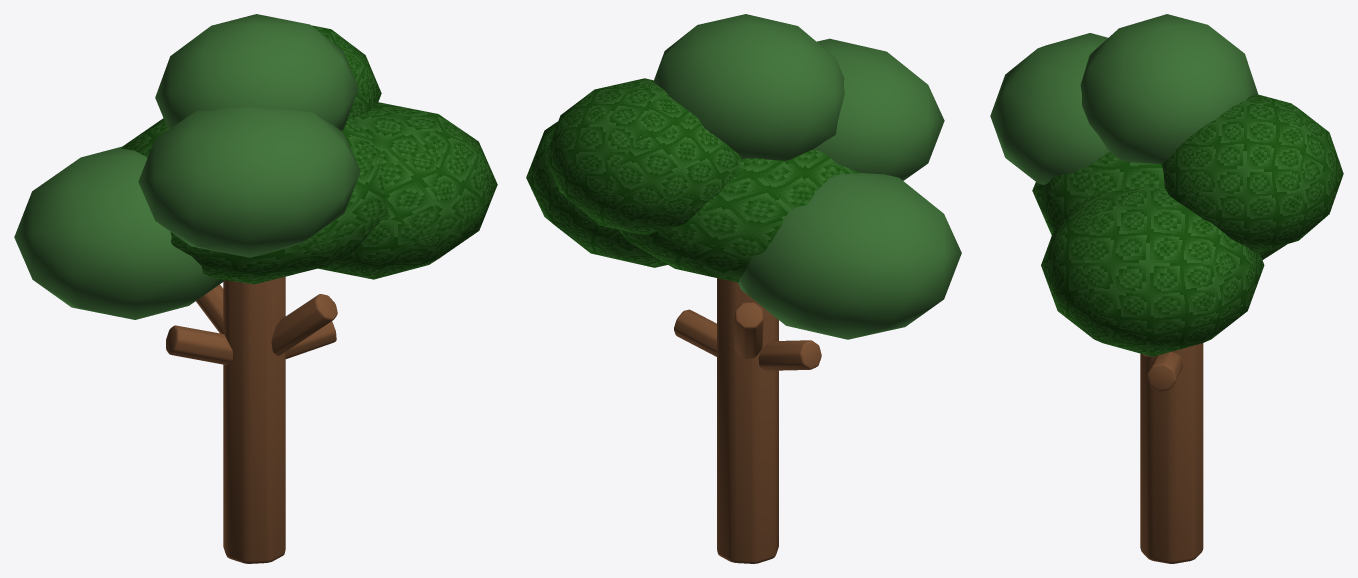
File: oak_tree.glb
The picture shows the model from 3 angles, left to right: view 1: azimuth 30°, elevation 25°; view 2: azimuth 150°, elevation 25°; view 3: azimuth 270°, elevation 25°; orthographic projection.
Visible parts, largest first — view 1: oak_tree_leaf_dark, oak_tree_leaf, oak_tree_bark; view 2: oak_tree_leaf_dark, oak_tree_leaf, oak_tree_bark; view 3: oak_tree_leaf, oak_tree_leaf_dark, oak_tree_bark.
Part boxes in pixels (left/top/right/bottom): oak_tree_leaf_dark: left=14, top=14, right=360, bottom=319; oak_tree_leaf: left=121, top=25, right=497, bottom=284; oak_tree_bark: left=166, top=276, right=337, bottom=563; oak_tree_leaf_dark: left=654, top=14, right=961, bottom=339; oak_tree_leaf: left=526, top=78, right=860, bottom=282; oak_tree_bark: left=674, top=278, right=821, bottom=563; oak_tree_leaf: left=1032, top=93, right=1343, bottom=356; oak_tree_leaf_dark: left=990, top=14, right=1257, bottom=184; oak_tree_bark: left=1140, top=343, right=1203, bottom=563.
Size of the model in its own units: 5.05 by 6.03 by 3.67.
3 materials, 1 textured.
